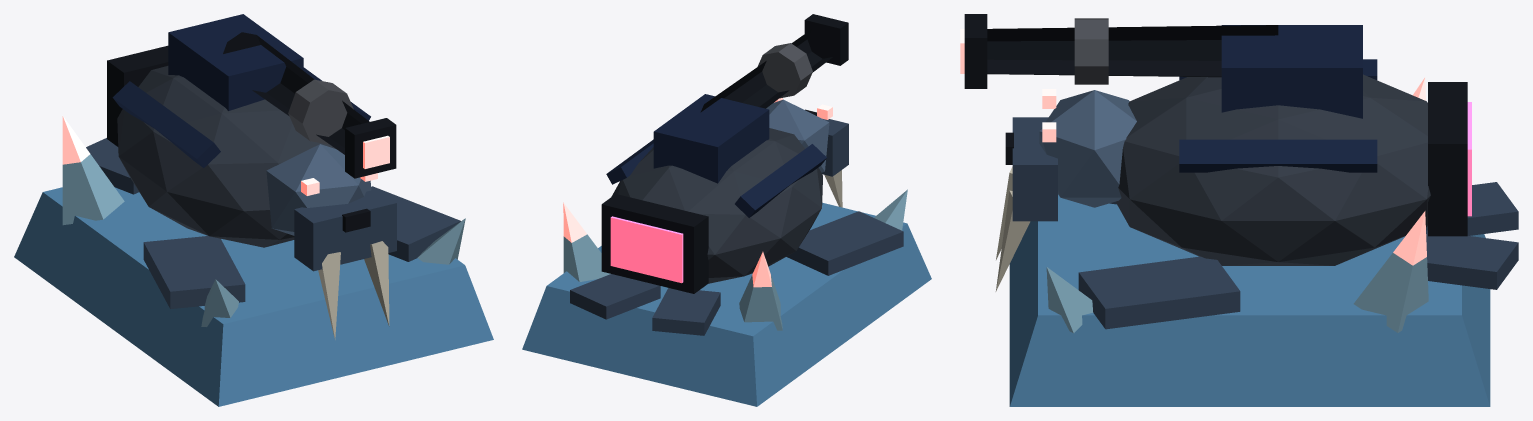
Rendered from turret.glb.
3 renders of one model, left to right at view 1: azimuth 30°, elevation 25°; view 2: azimuth 150°, elevation 25°; view 3: azimuth 270°, elevation 25°, orthographic. The views are drawn at different scales.
Visible parts, largest first — view 1: ITurretHull, ITurretGlow; view 2: ITurretHull, ITurretGlow; view 3: ITurretHull, ITurretGlow.
Part boxes in pixels (x1=…): ITurretHull: x1=14, y1=14, x2=493, y2=406; ITurretGlow: x1=62, y1=116, x2=389, y2=195; ITurretHull: x1=522, y1=14, x2=931, y2=406; ITurretGlow: x1=563, y1=98, x2=832, y2=287; ITurretHull: x1=964, y1=14, x2=1518, y2=406; ITurretGlow: x1=960, y1=29, x2=1471, y2=265.
Size of the model in its own units: 1.39 by 1.21 by 1.98.
